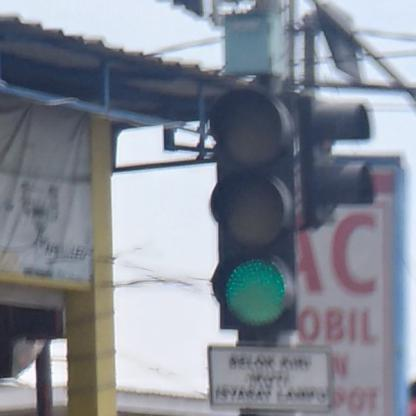green: (209, 89, 300, 328)
